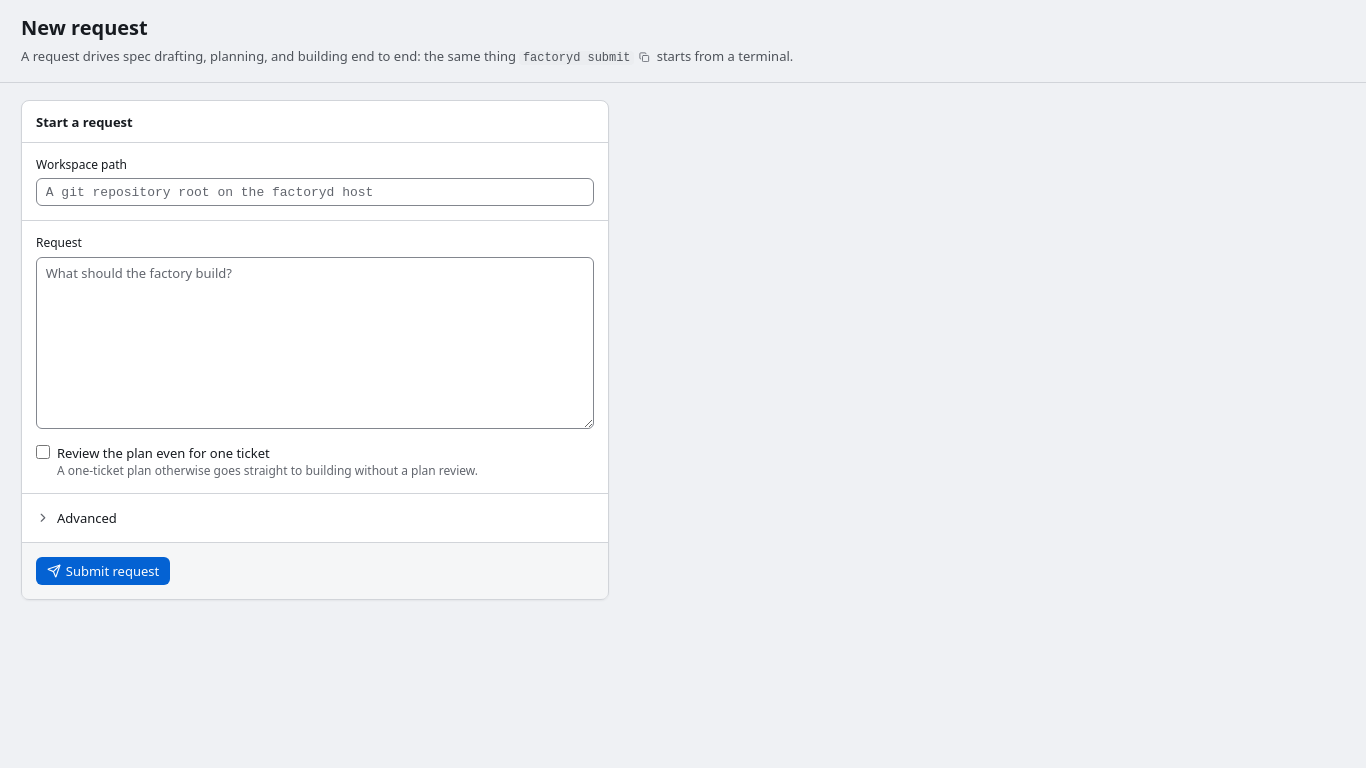
Test: NewRequestScreen › new-request intake reports required fields without posting
This screenshot has width=1366, height=768.
Click the button "Submit request".
click(103, 571)  # box [36, 557, 170, 585]
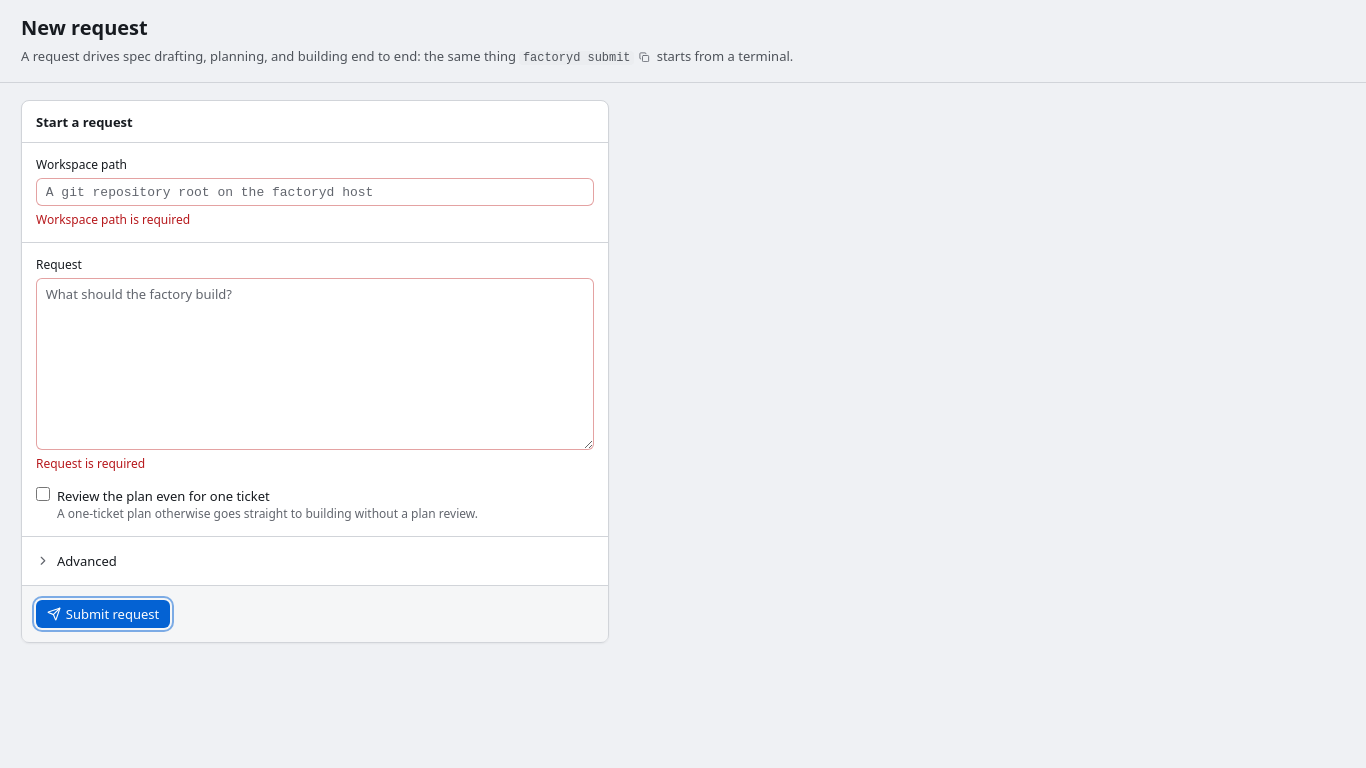
expect the text "Workspace path is required" is shown: met, box [36, 210, 190, 228]
expect the text "Request is required" is shown: met, box [36, 454, 145, 472]
